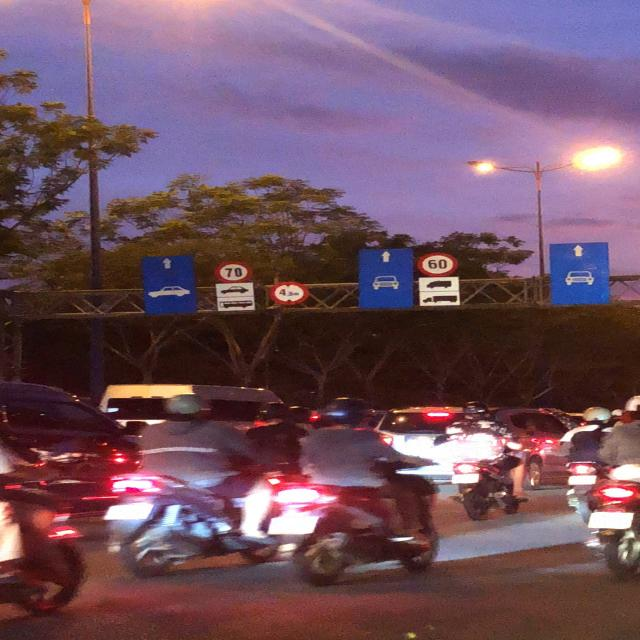Bien bao han che chieu cao: (266, 279, 309, 309)
Bien bao toc do toi da cho phep: (413, 250, 465, 278), (208, 260, 254, 284)
